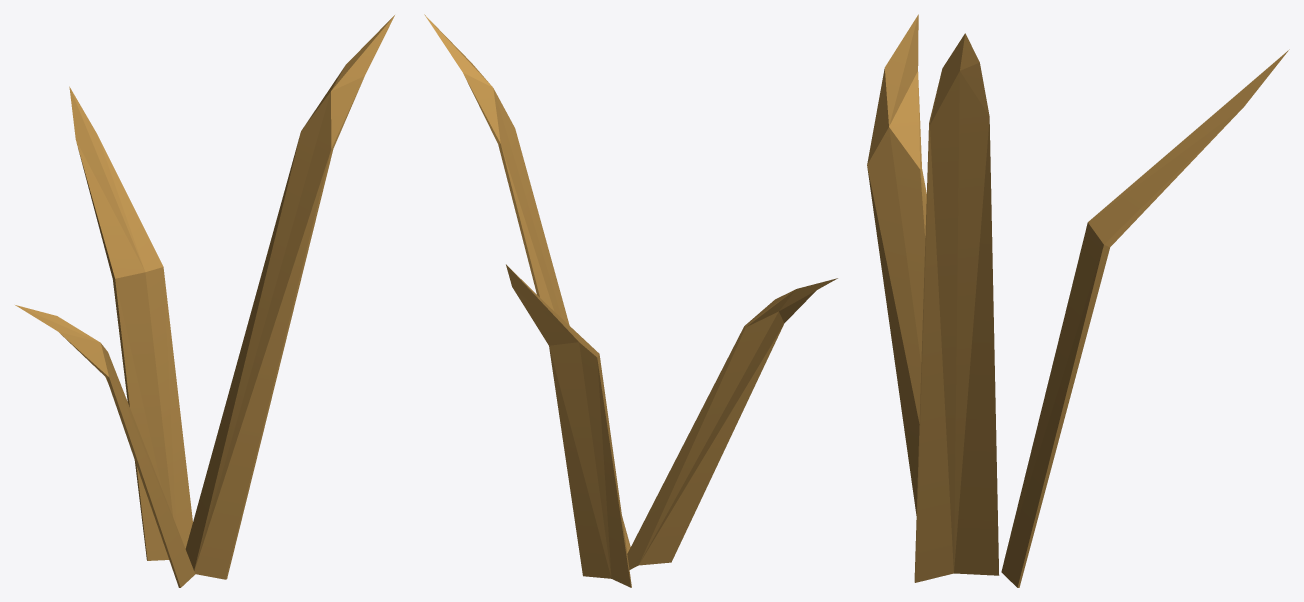
The model's file is Env_Grass_Patch_Yellow_02.obj.
3 views of the same model, side by side, from view 1: azimuth 30°, elevation 25°; view 2: azimuth 150°, elevation 25°; view 3: azimuth 270°, elevation 25° (orthographic). The views are drawn at different scales.
Visible parts, largest first — view 1: Env_Grass_Patch_Yellow_02; view 2: Env_Grass_Patch_Yellow_02; view 3: Env_Grass_Patch_Yellow_02.
Boxes of the visible parts, x1,y1,x2,y2 form: Env_Grass_Patch_Yellow_02: [15, 15, 394, 587]; Env_Grass_Patch_Yellow_02: [424, 14, 837, 587]; Env_Grass_Patch_Yellow_02: [867, 14, 1289, 587].
Size of the model in its own units: 0.2057 by 0.2491 by 0.1421.
Materials: 1 (1 with a texture image).
